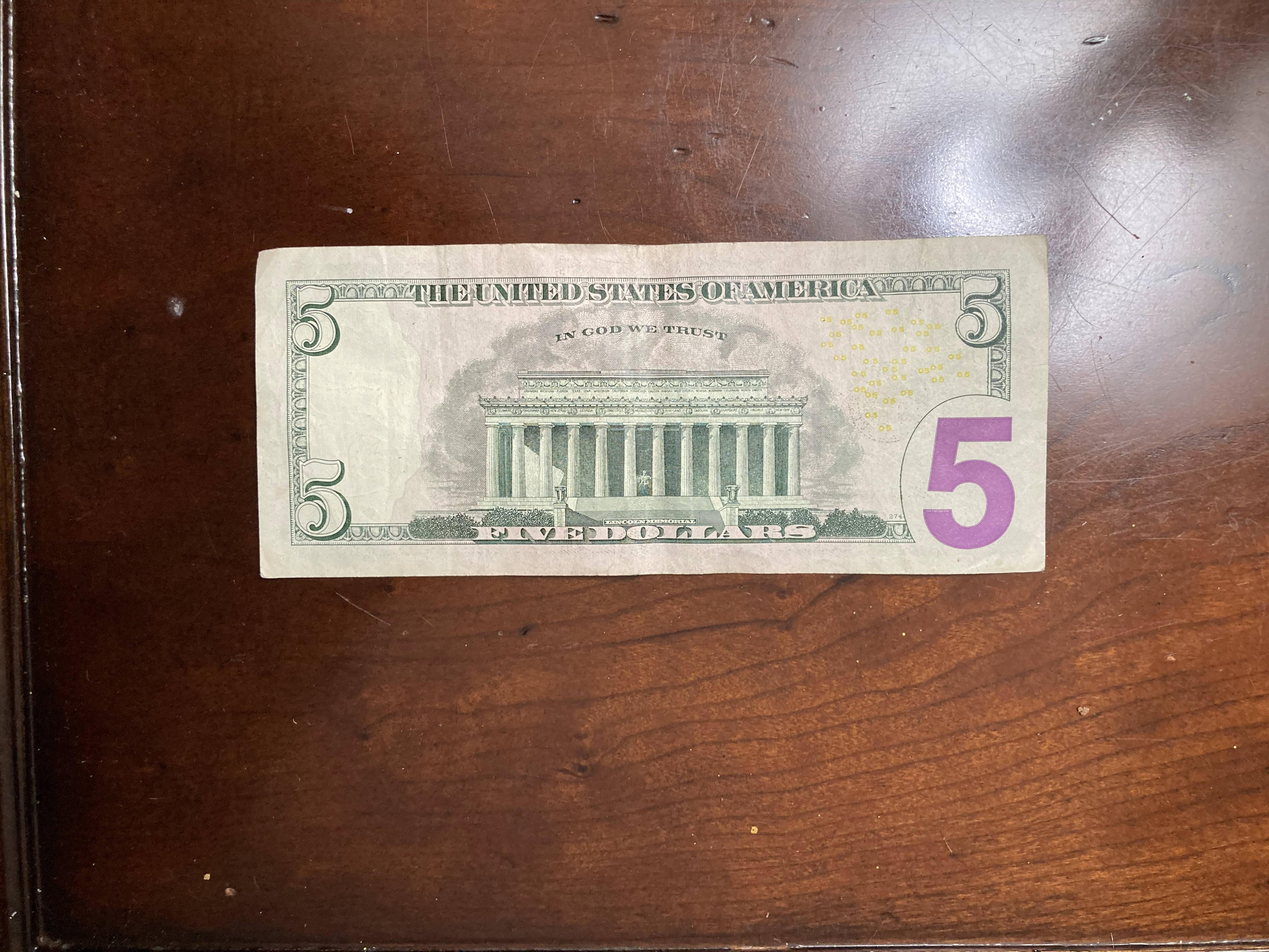five-back: (254, 233, 1049, 580)
